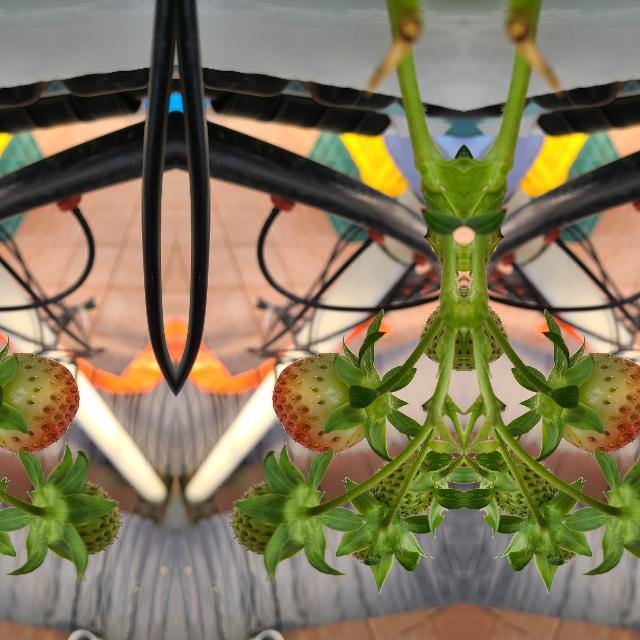Health_25: (228, 472, 318, 558), (32, 472, 122, 558), (376, 450, 442, 524), (484, 450, 550, 524), (607, 472, 640, 557)
Health_75: (271, 352, 363, 452), (0, 352, 79, 451), (563, 352, 640, 451)
